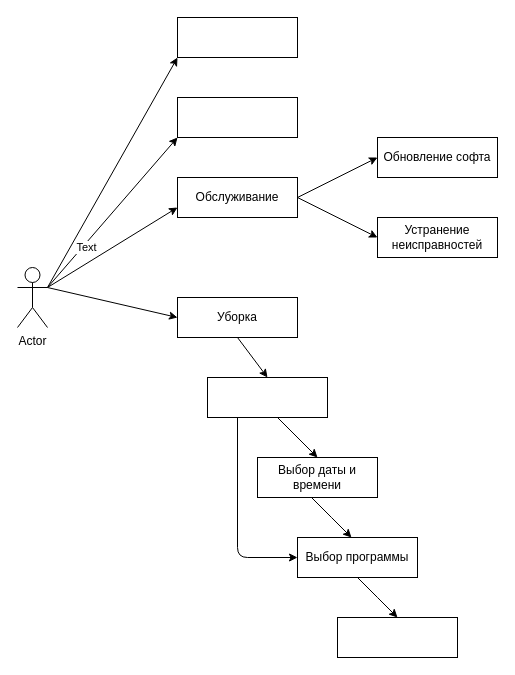
This 515x675 diagram has some shape labels left out. The shapes that lost their labels are listed below. From the top down, each one's box as (x1, y1, x2, y2) in pixels, then its label:
(176, 16, 298, 58): Подключение
(176, 96, 298, 138): Просмотр статистики
(206, 376, 328, 418): Выбор робота
(336, 616, 458, 658): Настройка графика
